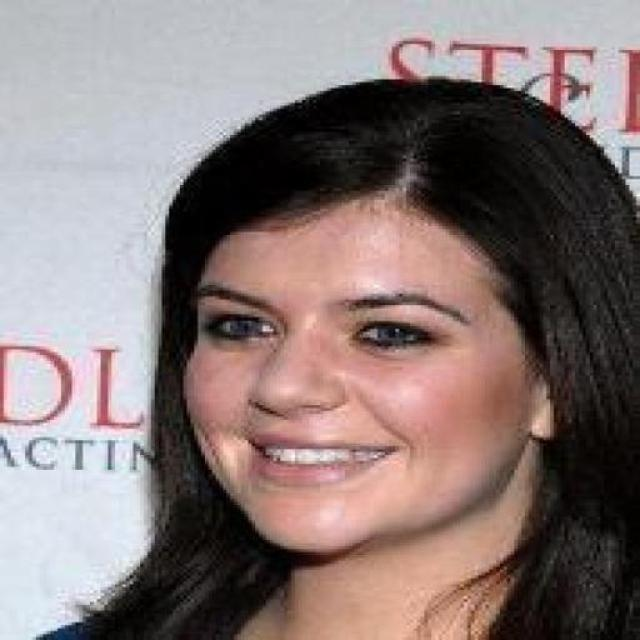bareface: (161, 106, 606, 522)
